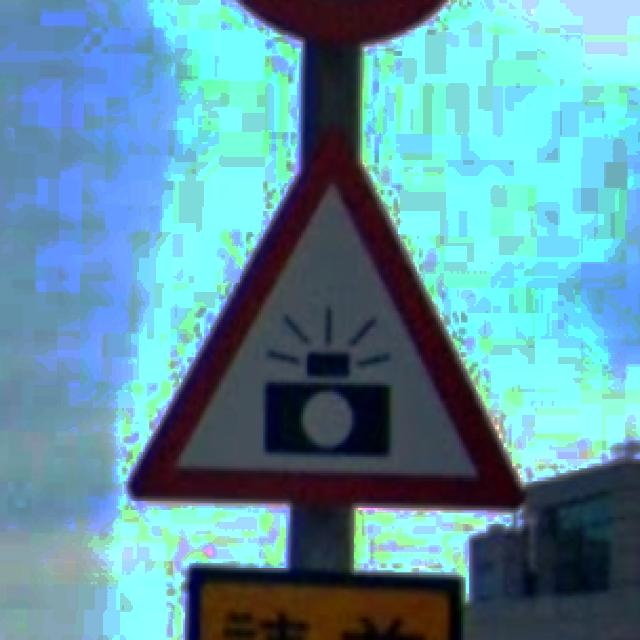speedcamera: (126, 123, 526, 512)
